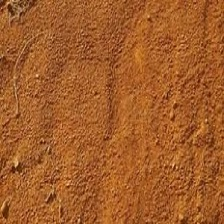clay_soil: (14, 21, 211, 199)
